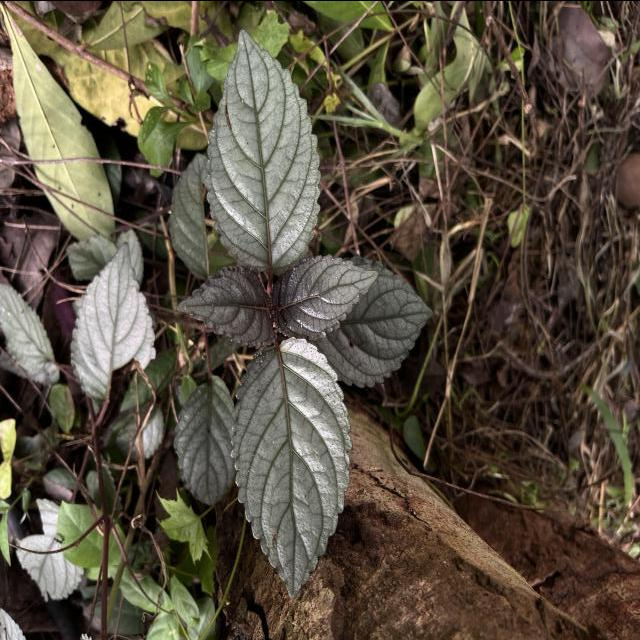Hemigraphis colorata: (229, 334, 357, 600), (201, 24, 323, 275), (322, 250, 437, 390), (67, 239, 159, 407), (271, 250, 385, 340), (174, 261, 277, 350)
